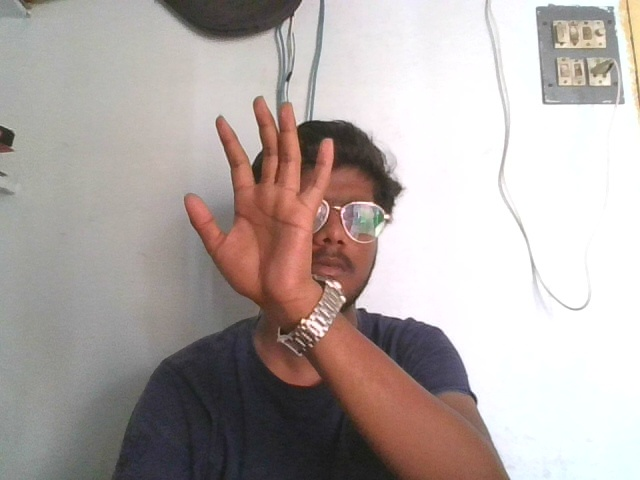Hello: (179, 96, 338, 291)
